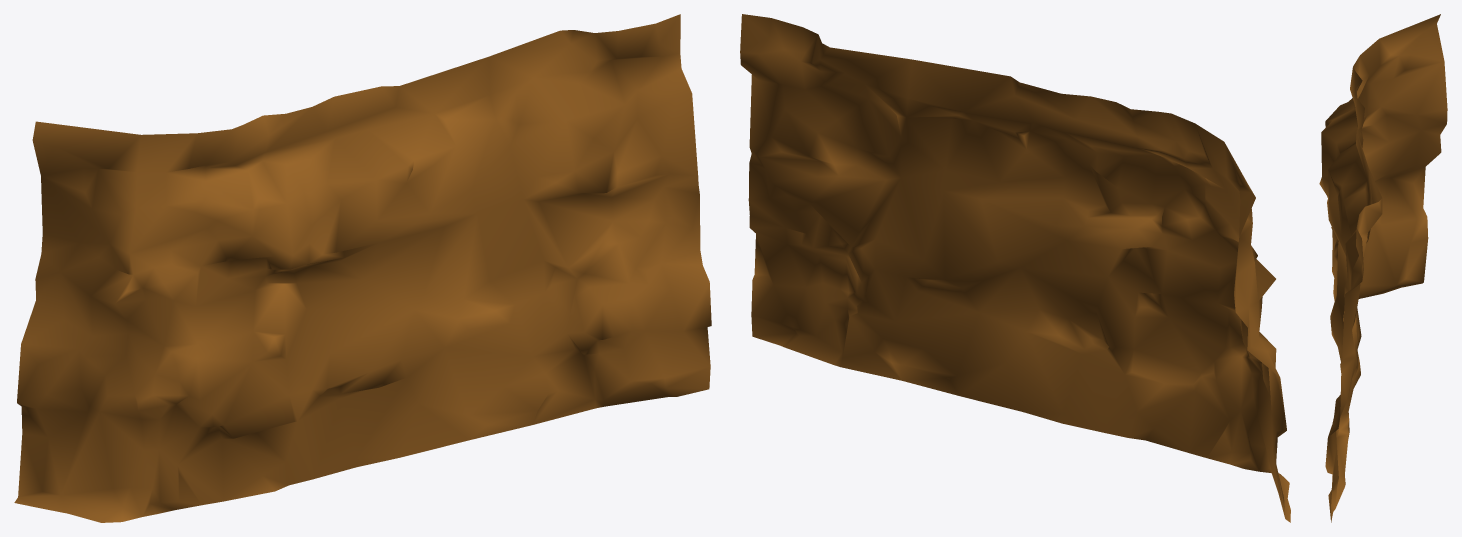
Rendered from MSH_Rocks_Cliff_05_a.FBX.
3 views of the same model, side by side, from view 1: azimuth 30°, elevation 25°; view 2: azimuth 150°, elevation 25°; view 3: azimuth 270°, elevation 25° (orthographic). The views are drawn at different scales.
Parts seen in each view (by area): view 1: MESH_LOD3; view 2: MESH_LOD3; view 3: MESH_LOD3.
Part boxes in pixels (x1,y1,x2,y2): MESH_LOD3: [14, 14, 711, 522]; MESH_LOD3: [740, 14, 1290, 522]; MESH_LOD3: [1319, 14, 1447, 522].
Size of the model in its own units: 1216 by 665 by 273.
